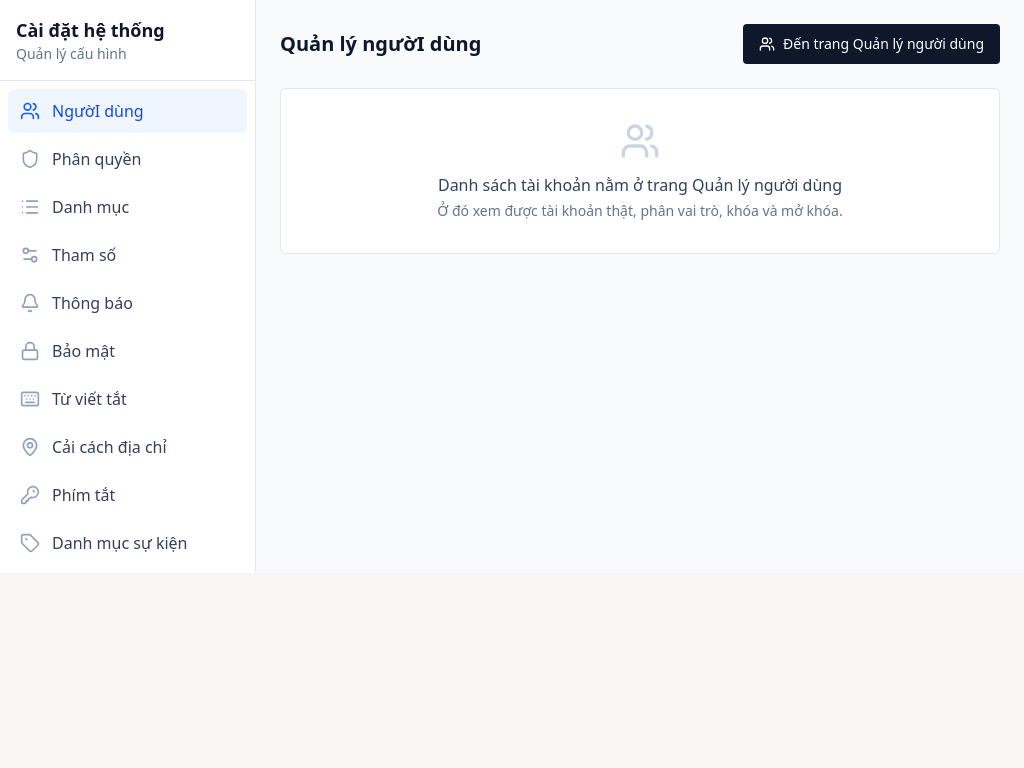
Test: SettingsPage › should switch to permissions module when clicking menu
Click the button with test id "settings-menu-permissions".
click(128, 159)  # box [8, 137, 247, 181]
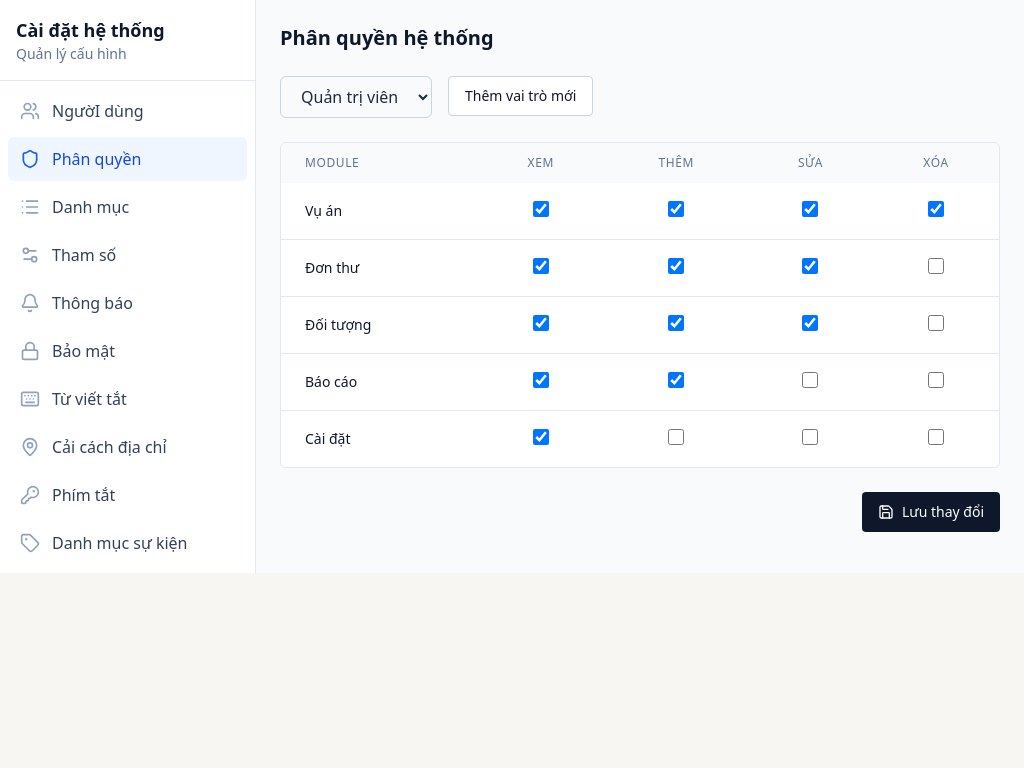
Result: the heading "Phân quyền hệ thống" is shown at [280, 24, 494, 51]
